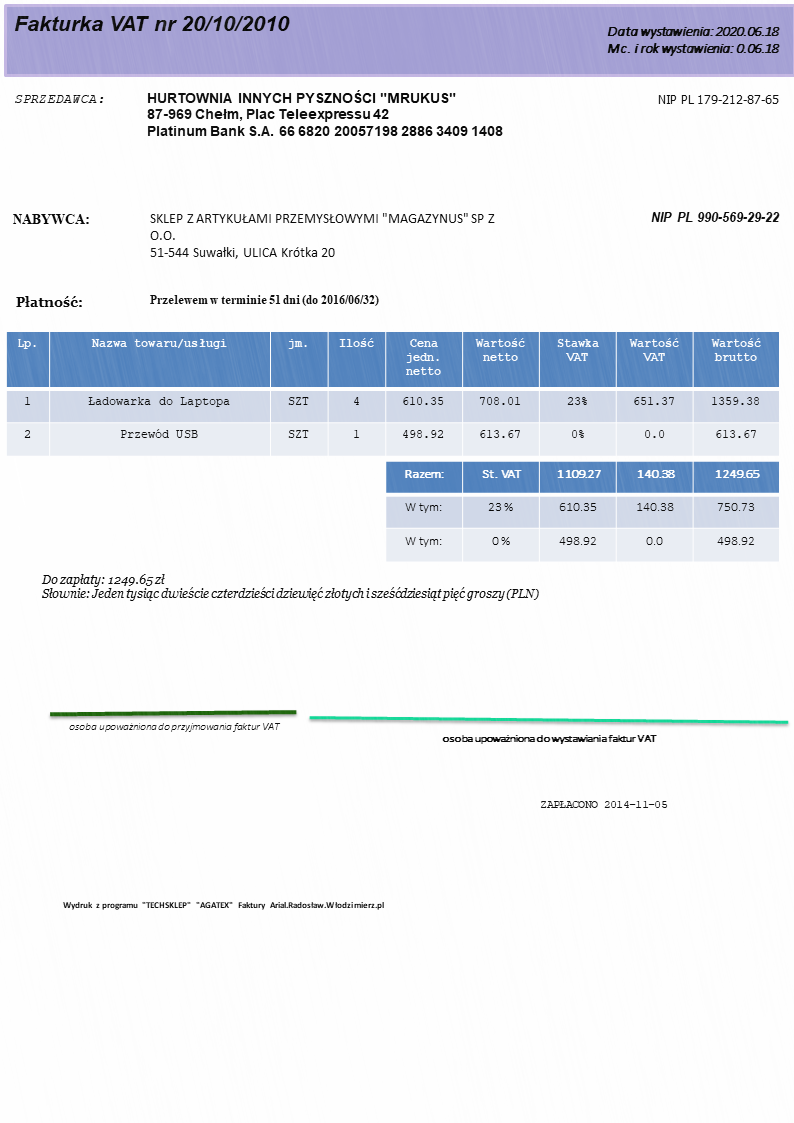Table: (4, 329, 780, 458), (384, 459, 780, 563)
TextBox: (144, 87, 506, 142), (149, 210, 495, 261), (38, 570, 542, 604), (11, 12, 292, 36), (603, 22, 786, 56), (60, 897, 389, 912), (147, 291, 380, 308), (66, 719, 282, 735), (438, 731, 658, 746), (649, 207, 780, 226), (653, 89, 779, 108), (538, 797, 669, 811), (10, 90, 106, 106), (10, 210, 91, 227), (15, 292, 84, 310)
